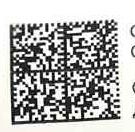datamatrix: (11, 20, 122, 125)
